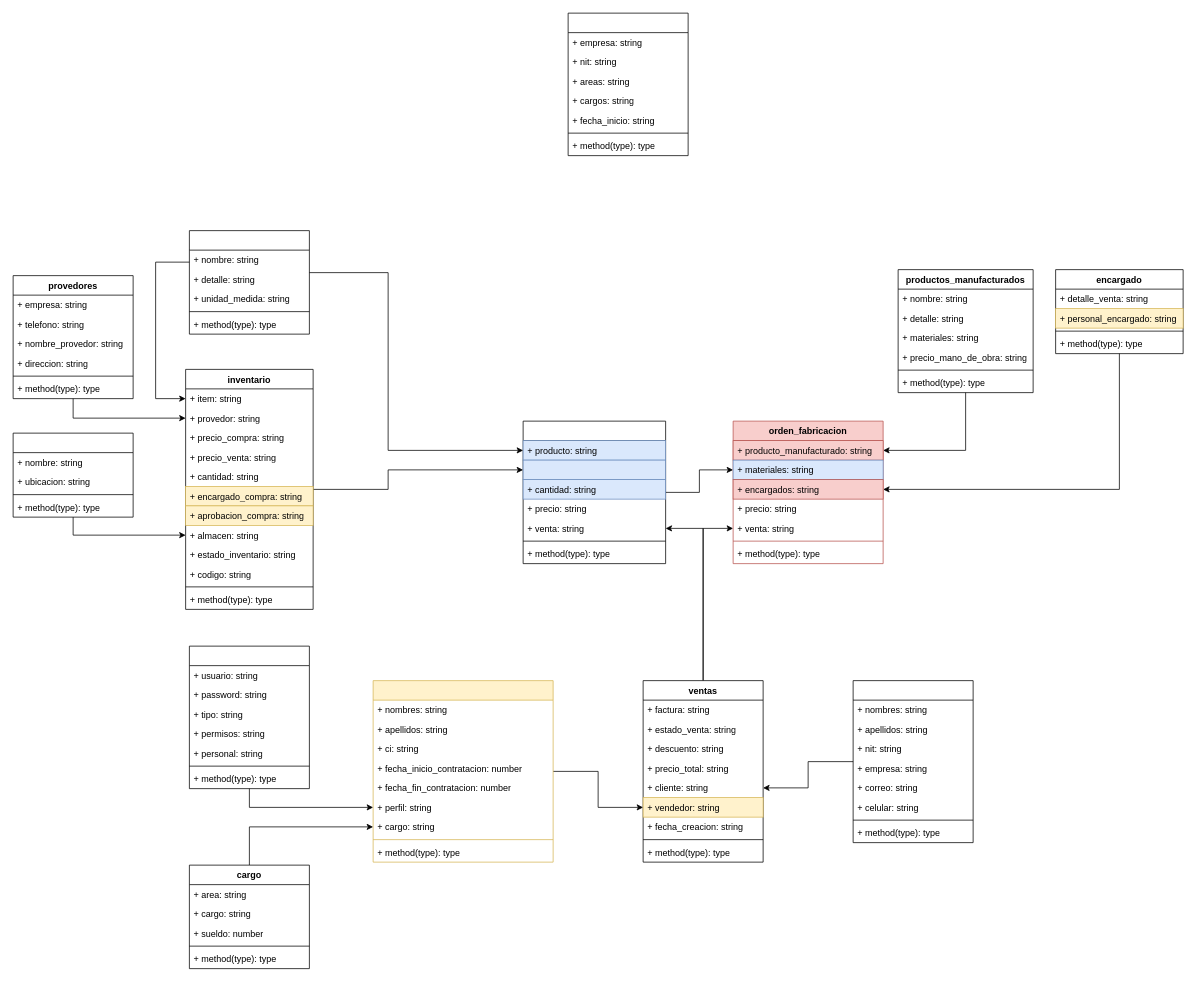
Some shapes in this 1196 by 984 pixel diagram are drawn without their labels. Here are the shapes that lost their labels. From the top down, the box of each, then its label:
(567, 12, 688, 156): configuraciones
(189, 230, 309, 334): item
(12, 432, 133, 517): almacen
(522, 459, 666, 480): + inventario: string
(522, 420, 666, 564): detalle
(189, 645, 309, 789): perfil
(372, 680, 553, 862): personal
(852, 680, 973, 843): clientes
